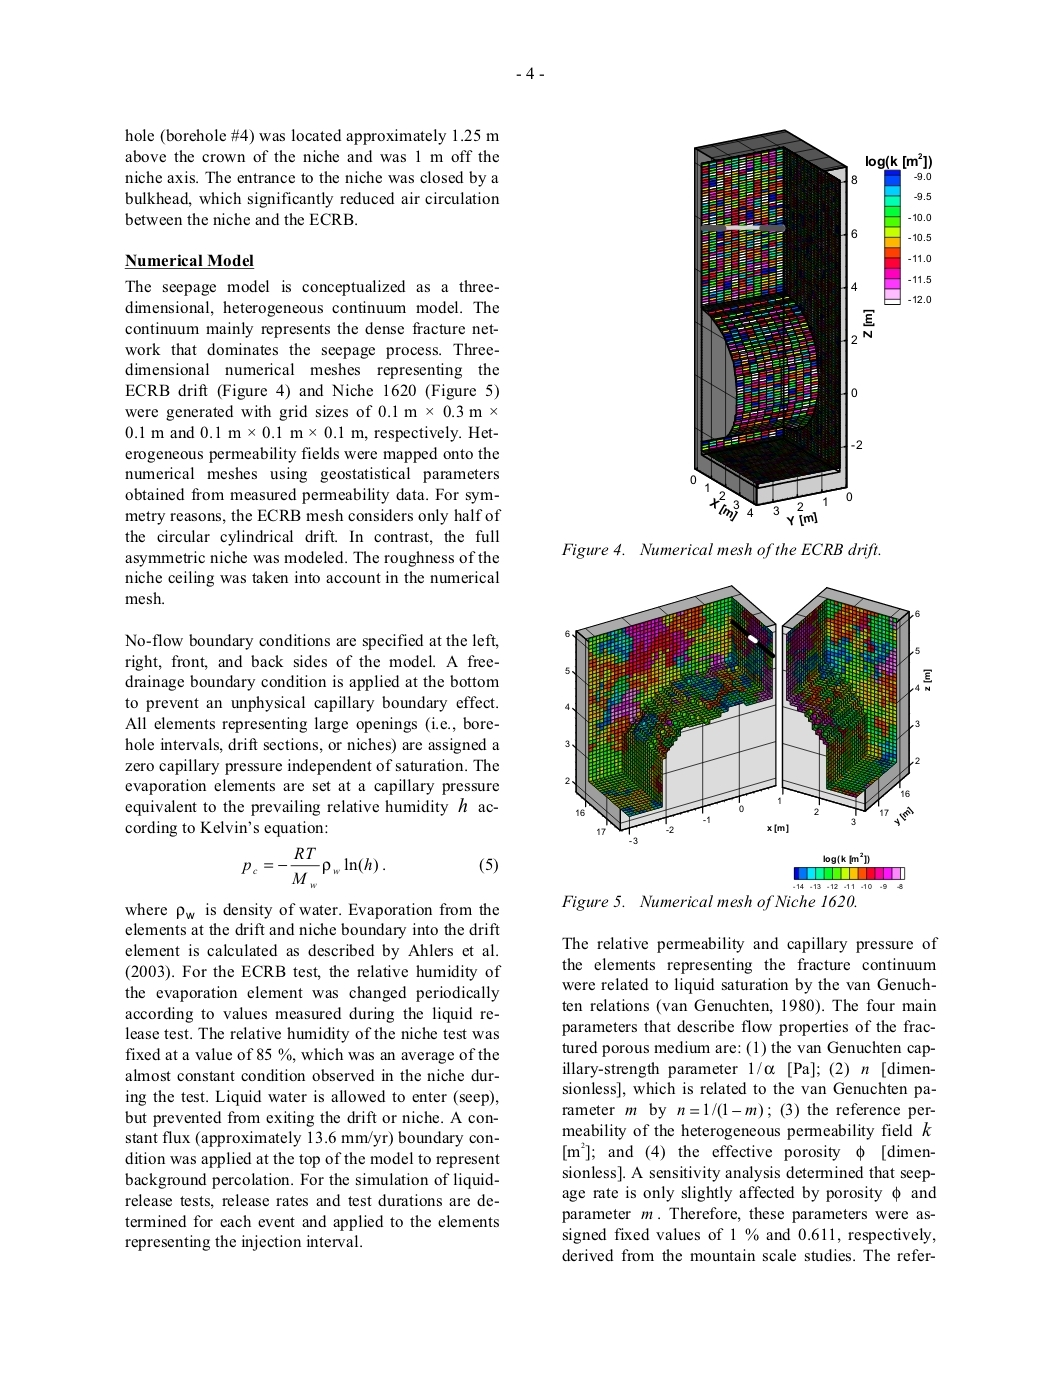figure: (690, 128, 931, 527), (565, 585, 931, 844), (794, 853, 905, 888)
formula: (241, 846, 497, 888)
